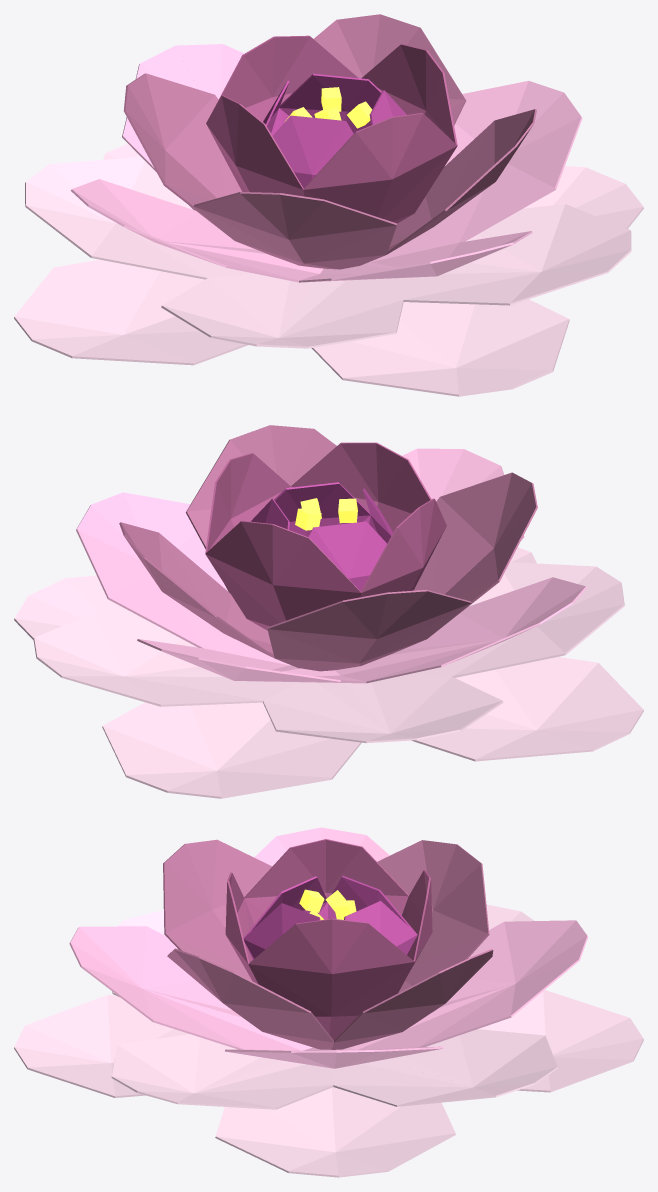
File: LotusNenupharDRACO.glb
The picture shows the model from 3 angles, top to bottom: view 1: azimuth 30°, elevation 25°; view 2: azimuth 150°, elevation 25°; view 3: azimuth 270°, elevation 25°; orthographic projection. The views are drawn at different scales.
Visible parts, largest first — view 1: LotusNenuphar; view 2: LotusNenuphar; view 3: LotusNenuphar.
Boxes of the visible parts, x1,y1,x2,y2 form: LotusNenuphar: (14,14,643,396); LotusNenuphar: (14,425,643,798); LotusNenuphar: (14,827,643,1177).
Size of the model in its own units: 3.43 by 1.12 by 3.43.
